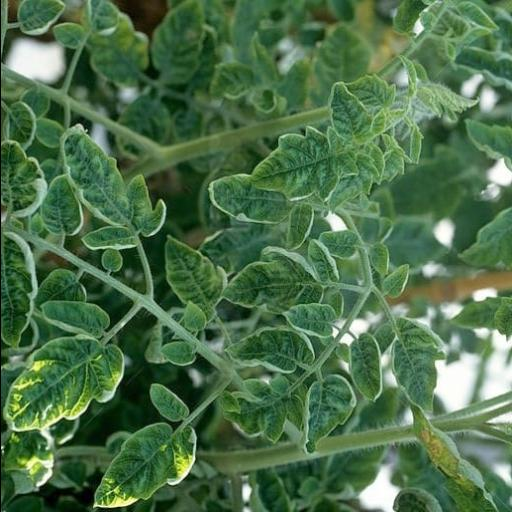disease_tomato: (60, 122, 170, 250), (0, 336, 122, 434), (91, 420, 202, 512), (198, 170, 318, 254), (244, 126, 362, 204), (220, 243, 324, 319), (386, 314, 448, 420), (226, 374, 308, 446), (161, 236, 231, 316), (220, 324, 314, 379), (148, 0, 208, 84), (298, 373, 356, 458), (0, 224, 35, 352), (0, 133, 49, 218), (37, 174, 85, 240), (36, 296, 110, 336), (345, 328, 383, 404), (326, 82, 374, 142), (279, 302, 338, 340), (344, 74, 399, 112), (148, 380, 194, 422)
